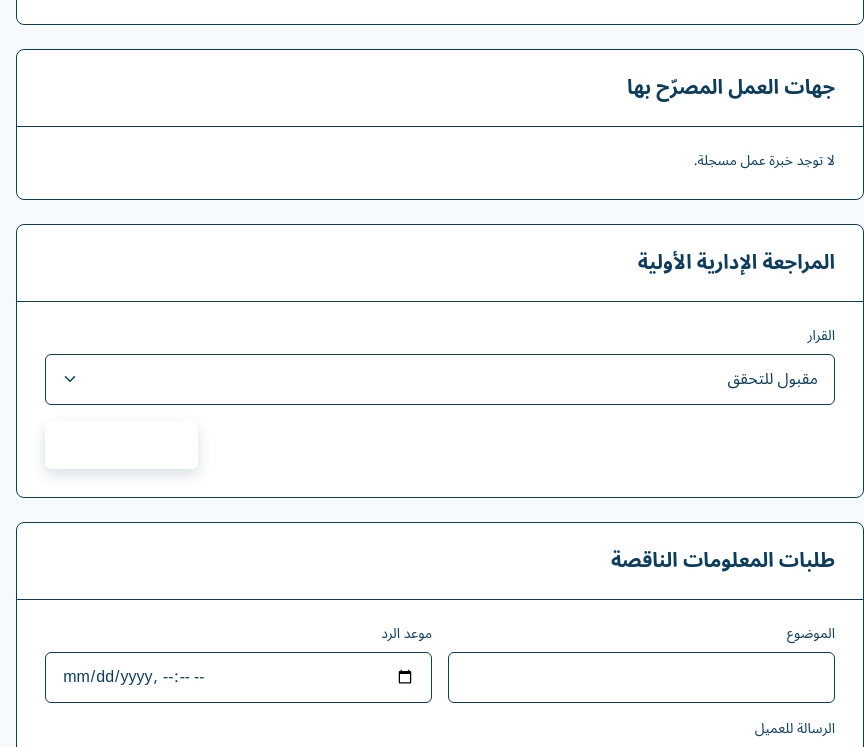
it: the intake review card › says it in Arabic too
(page scrolled)
Step 1. Select "مرفوض" in the dropdown labelled "القرار" → (440, 379), box [45, 354, 835, 405]
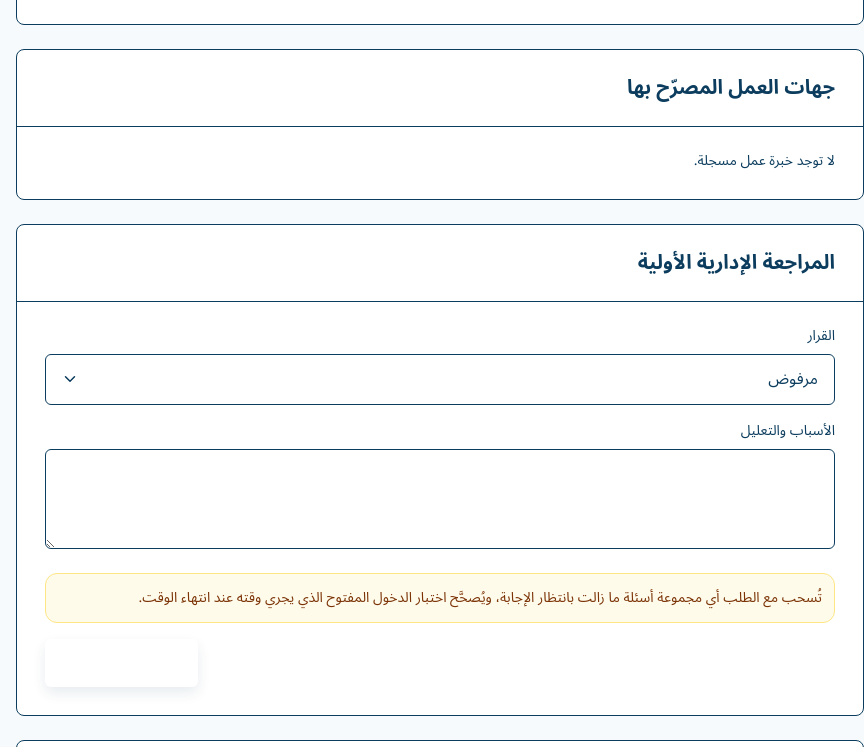
Now the text "تُسحب مع الطلب أي مجموعة أسئلة ما زالت بانتظار الإجابة، ويُصحَّح اختبار الدخول المفتوح الذي يجري وقته عند انتهاء الوقت." is shown, box [138, 583, 822, 612]
